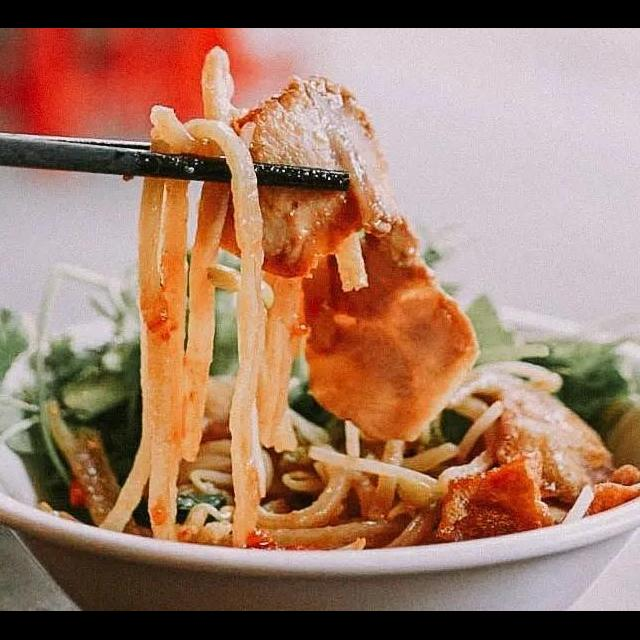banh da: (428, 442, 559, 546)
mi: (87, 42, 271, 556), (204, 393, 507, 564)
mi quang: (0, 72, 640, 611)
thit heo: (293, 210, 482, 448), (199, 70, 401, 284), (467, 376, 640, 510)
